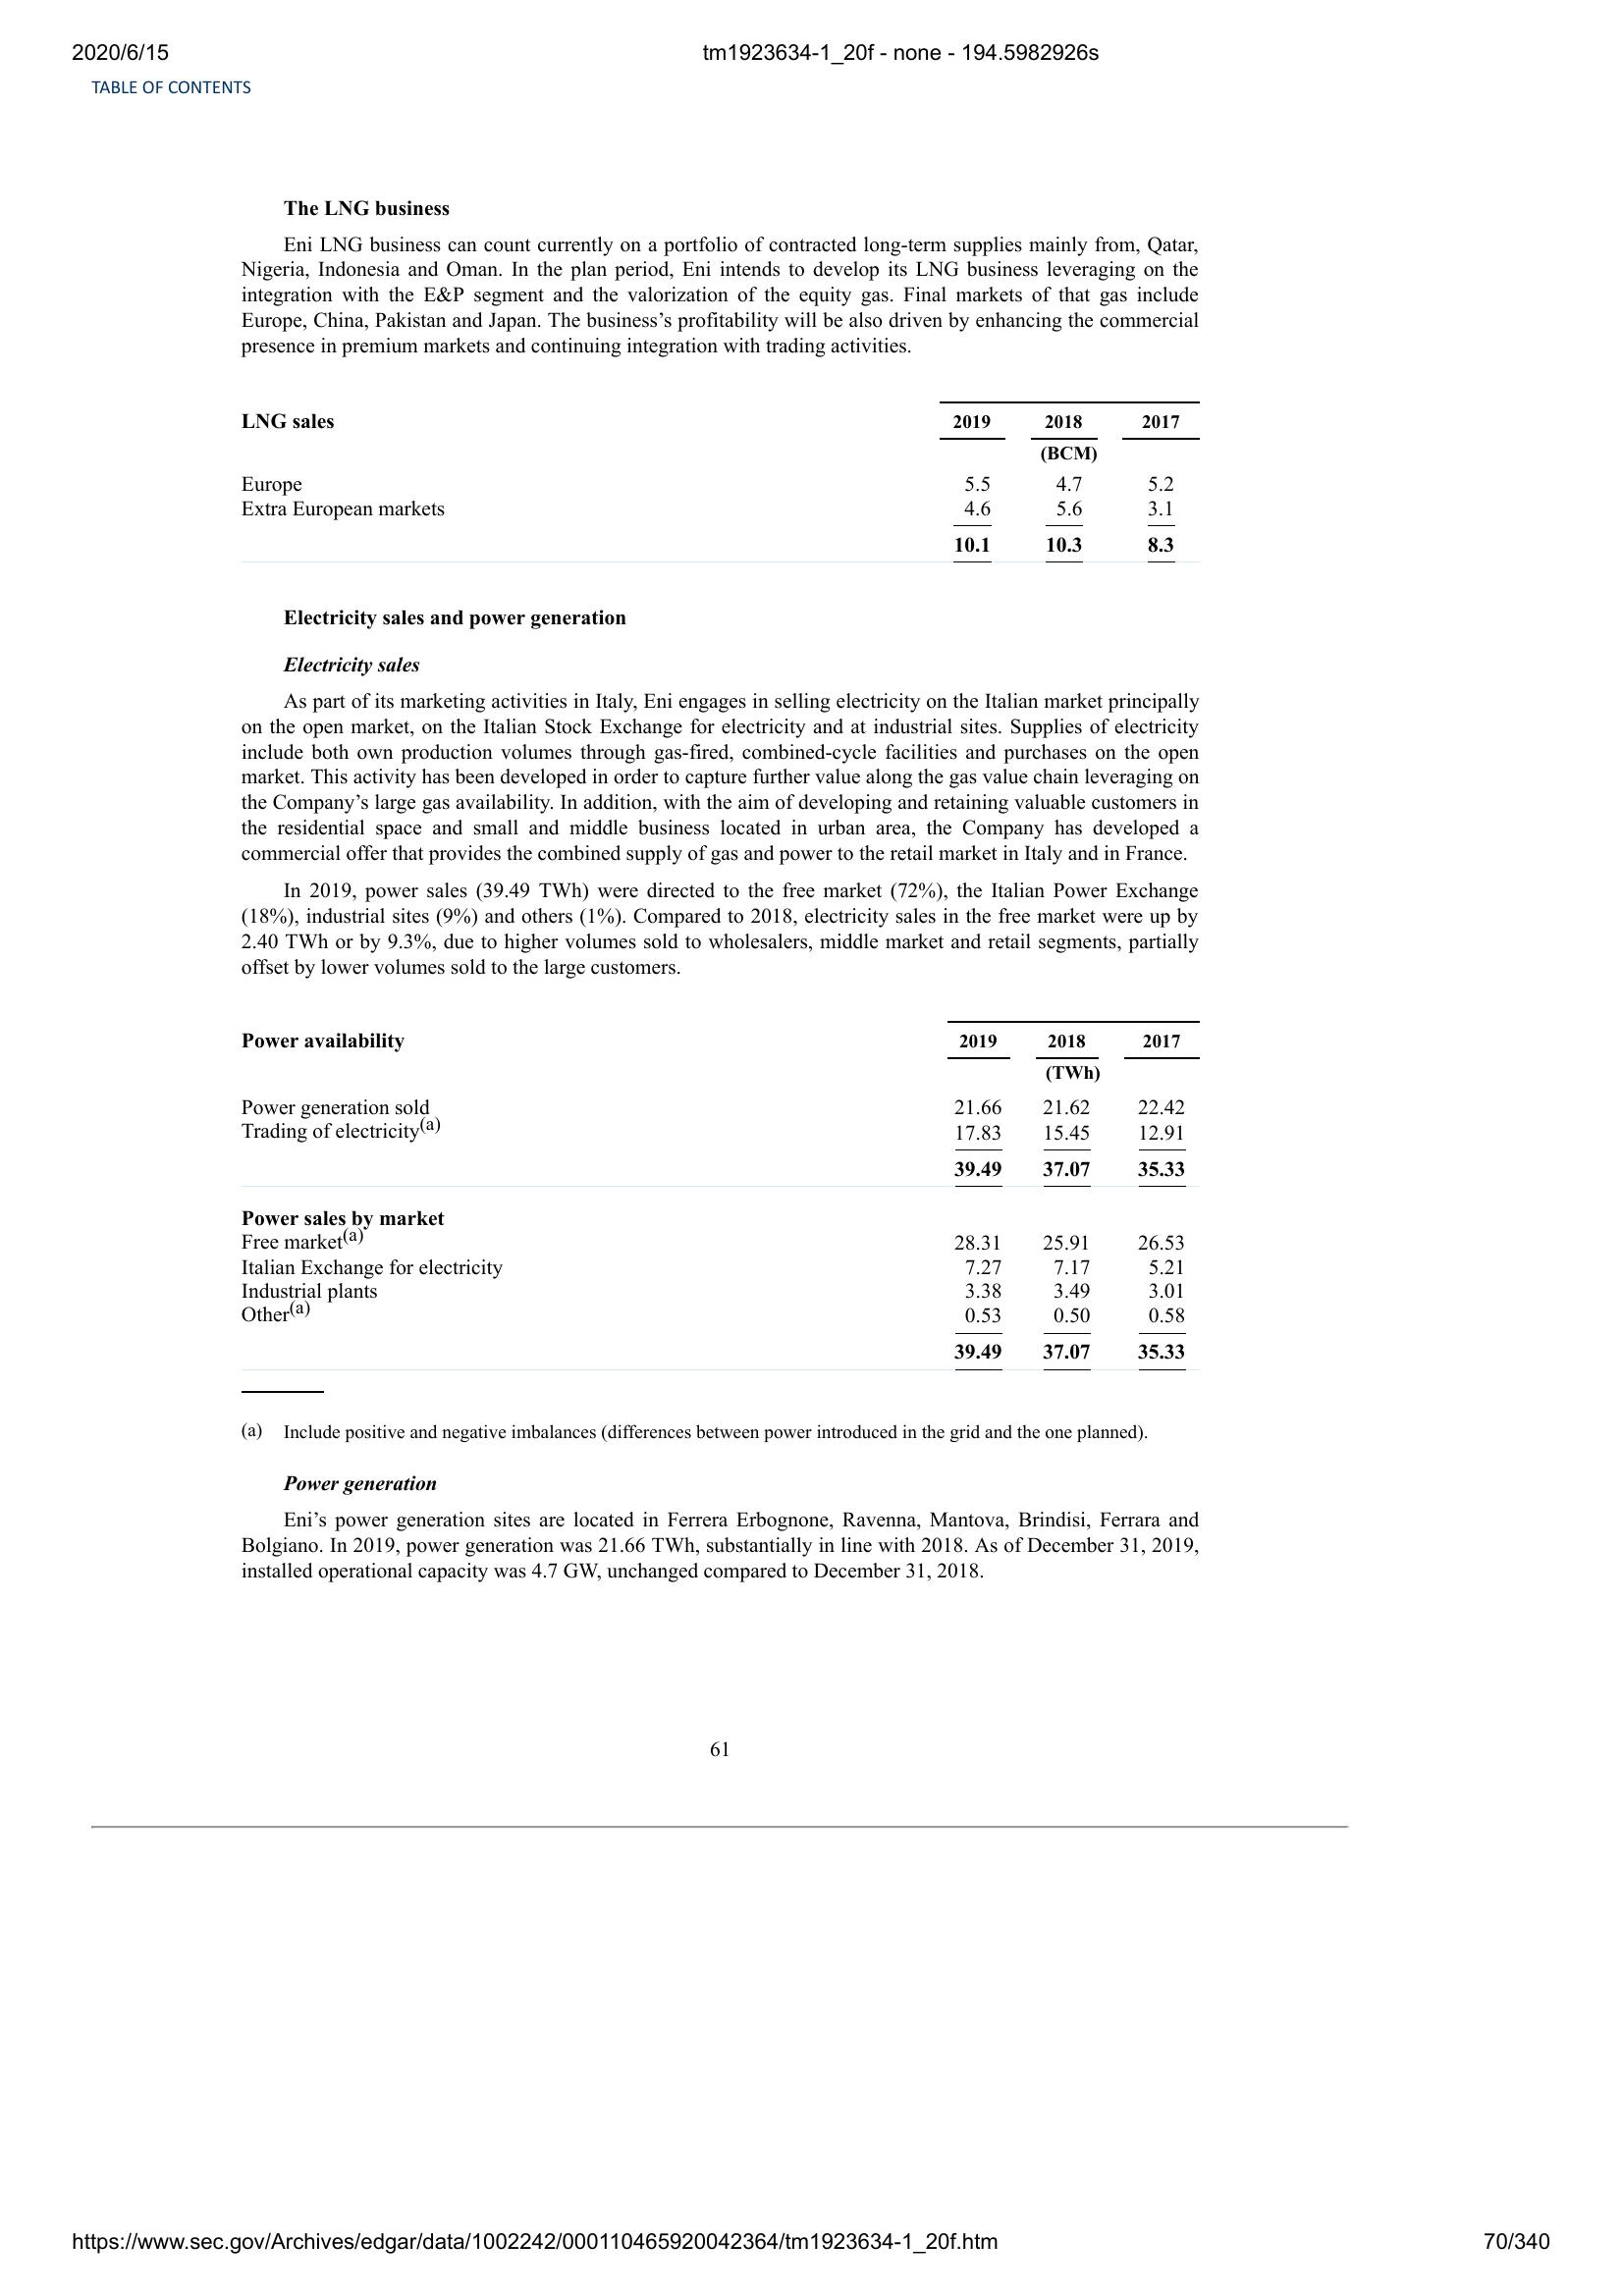table: (234, 1023, 1194, 1380), (232, 391, 1205, 572)
